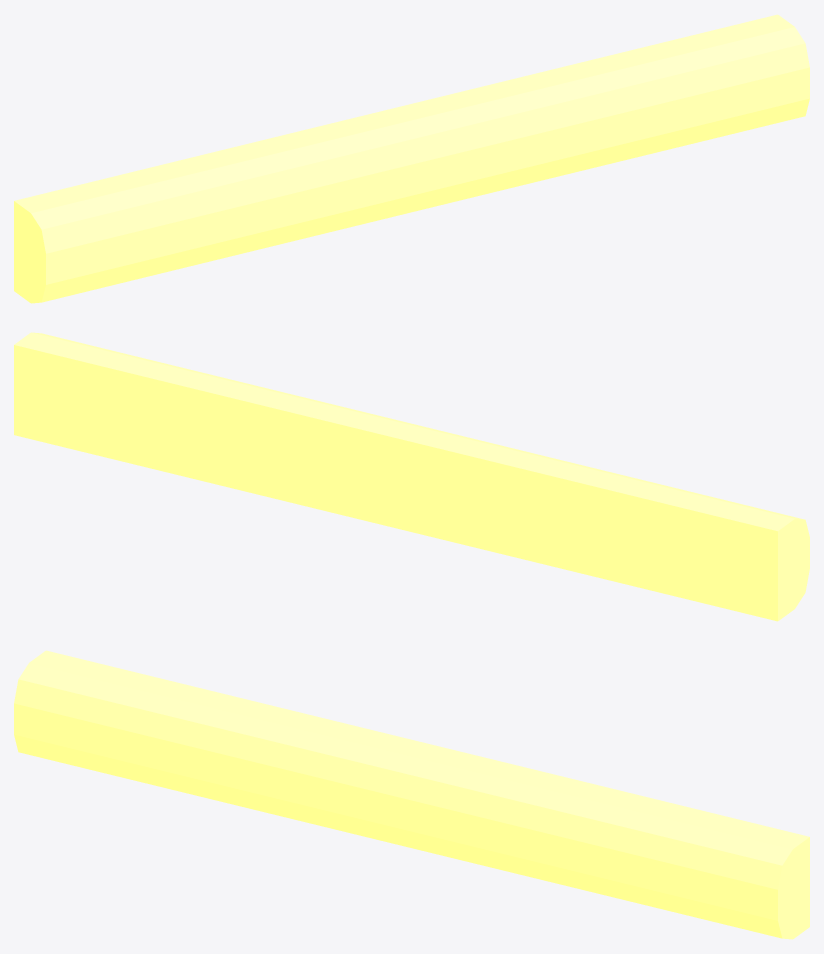
File: lamp_7.glb
3 views of the same model, one above another, from view 1: azimuth 30°, elevation 25°; view 2: azimuth 150°, elevation 25°; view 3: azimuth 330°, elevation 25° (orthographic).
Visible parts, largest first — view 1: Tube Lamp; view 2: Tube Lamp; view 3: Tube Lamp.
Part boxes in pixels (x1,y1,x2,y2): Tube Lamp: (14, 14, 809, 303); Tube Lamp: (14, 332, 809, 621); Tube Lamp: (14, 650, 809, 939).
Bounding box in the file's own units: 0.5549 × 0.0626 × 0.0403.
